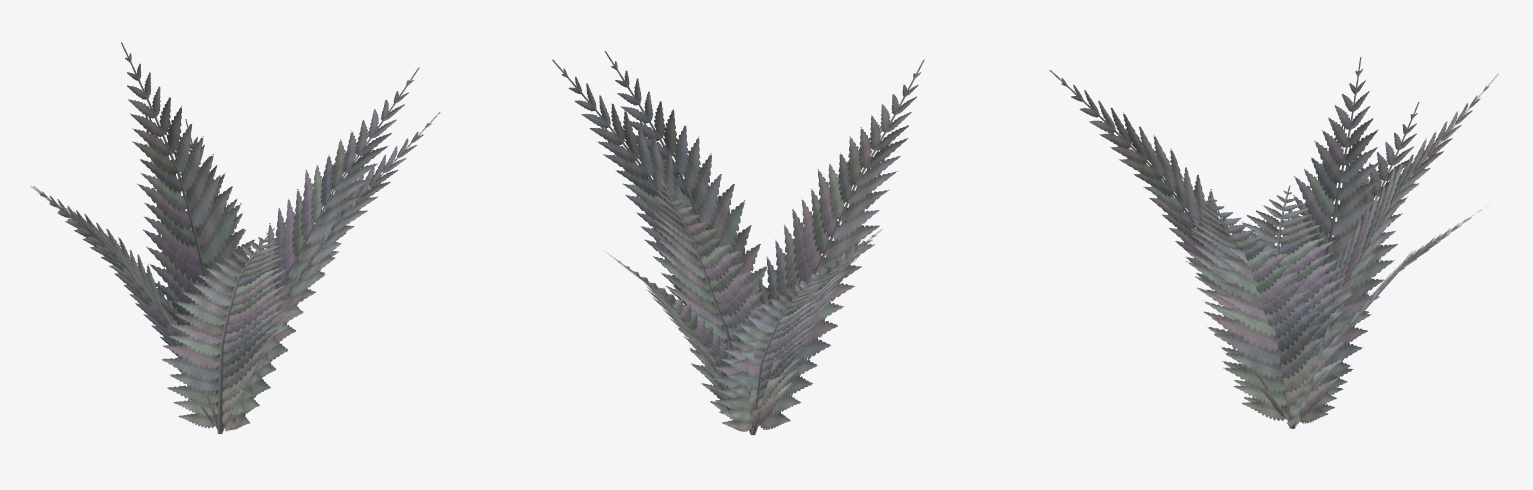
Rendered from fern_tall_l0.gltf.
3 renders of one model, left to right at view 1: azimuth 30°, elevation 25°; view 2: azimuth 150°, elevation 25°; view 3: azimuth 270°, elevation 25°, orthographic. The views are drawn at different scales.
Visible parts, largest first — view 1: fern_tall_l0; view 2: fern_tall_l0; view 3: fern_tall_l0.
Boxes of the visible parts, x1,y1,x2,y2 form: fern_tall_l0: (30,42,440,433); fern_tall_l0: (552,51,924,435); fern_tall_l0: (1049,57,1498,428).
Size of the model in its own units: 1.97 by 1.59 by 1.99.
1 material, 1 textured.
